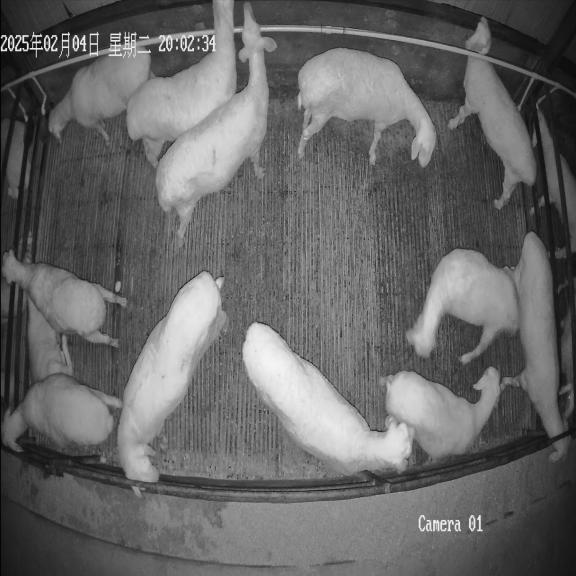drinking: (48, 37, 154, 145)
eating: (502, 231, 570, 462)
lying: (27, 298, 73, 383)
stand: (156, 2, 276, 246), (243, 322, 413, 475), (117, 271, 227, 482), (126, 0, 236, 168), (448, 17, 536, 209), (297, 48, 436, 167), (405, 249, 518, 364), (3, 251, 127, 345), (380, 367, 500, 458), (2, 373, 121, 450)
